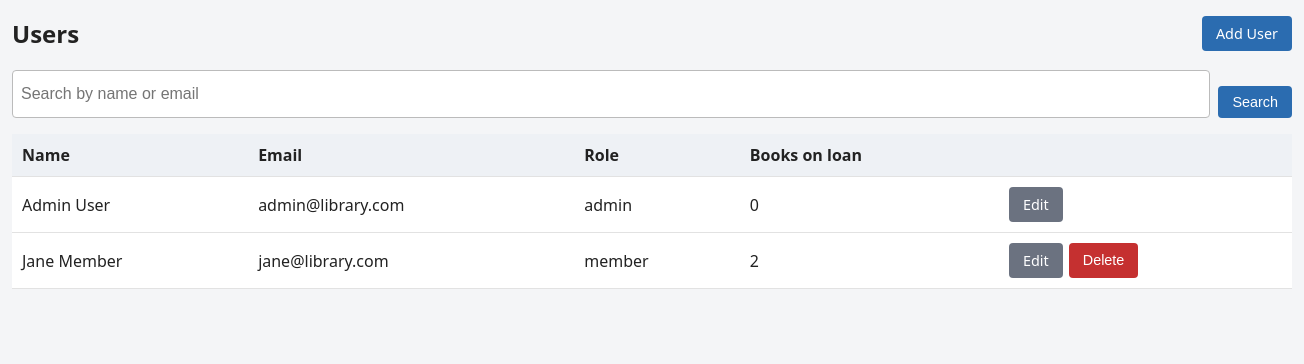
UsersPage › deletes a user after confirming
Click the button "Delete": (1104, 260) [1069, 243, 1138, 278]
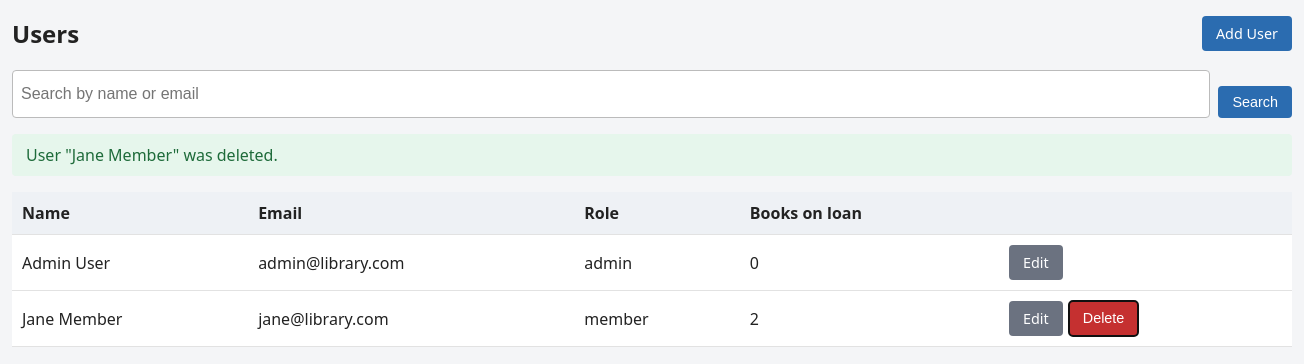
Expected: the message reads "User \"Jane Member\" was deleted.", [26, 144, 278, 166]
